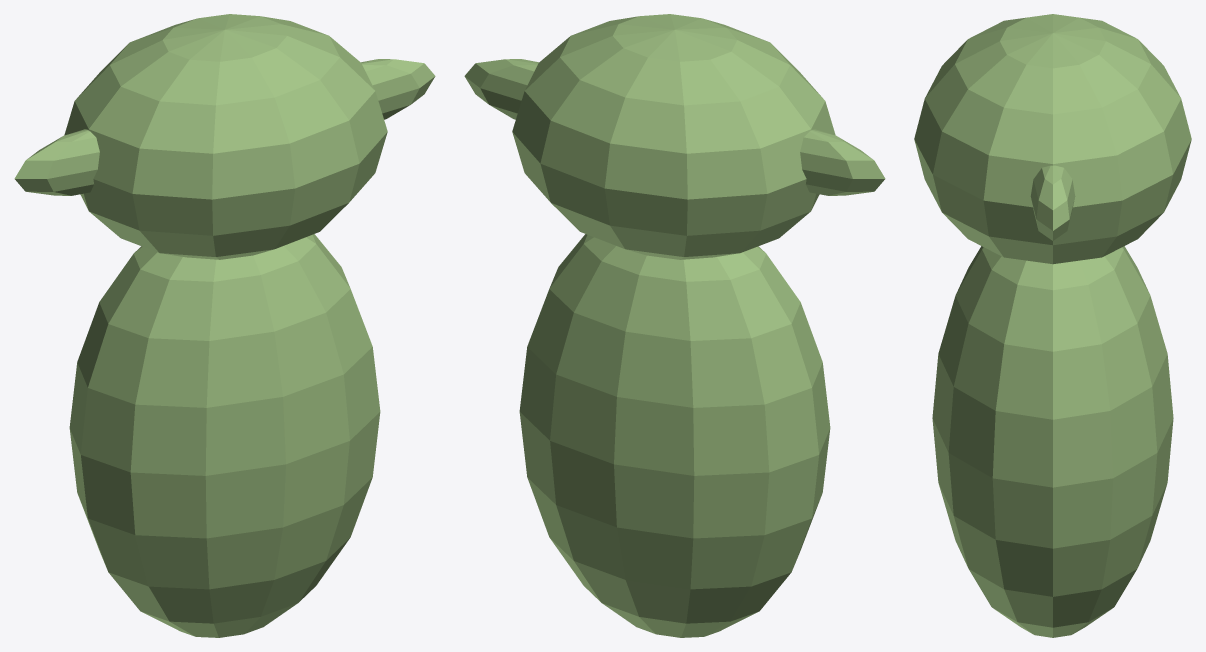
File: goblin.glb
3 views of the same model, side by side, from view 1: azimuth 30°, elevation 25°; view 2: azimuth 150°, elevation 25°; view 3: azimuth 270°, elevation 25° (orthographic).
Parts seen in each view (by area): view 1: Goblin; view 2: Goblin; view 3: Goblin.
Boxes of the visible parts, left/top/right/bottom form: Goblin: left=14, top=14, right=435, bottom=637; Goblin: left=464, top=14, right=885, bottom=637; Goblin: left=914, top=14, right=1191, bottom=637.
Size of the model in its own units: 0.92 by 1.25 by 0.532.
